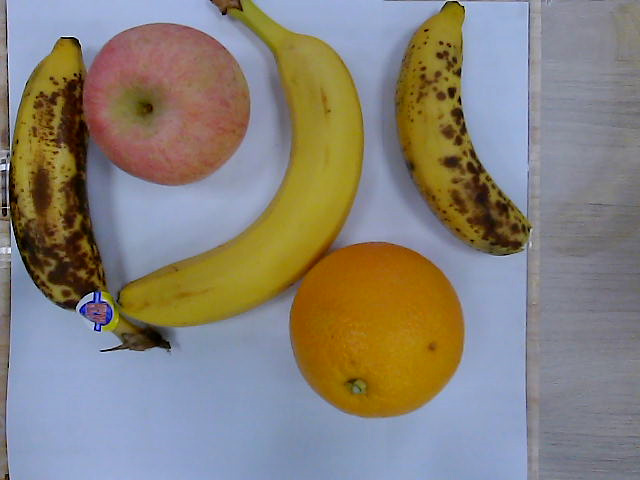fresh_apple: (84, 23, 252, 186)
fresh_banana: (119, 3, 362, 331)
fresh_orange: (292, 241, 465, 419)
rotten_banana: (9, 37, 169, 354), (394, 2, 536, 257)
